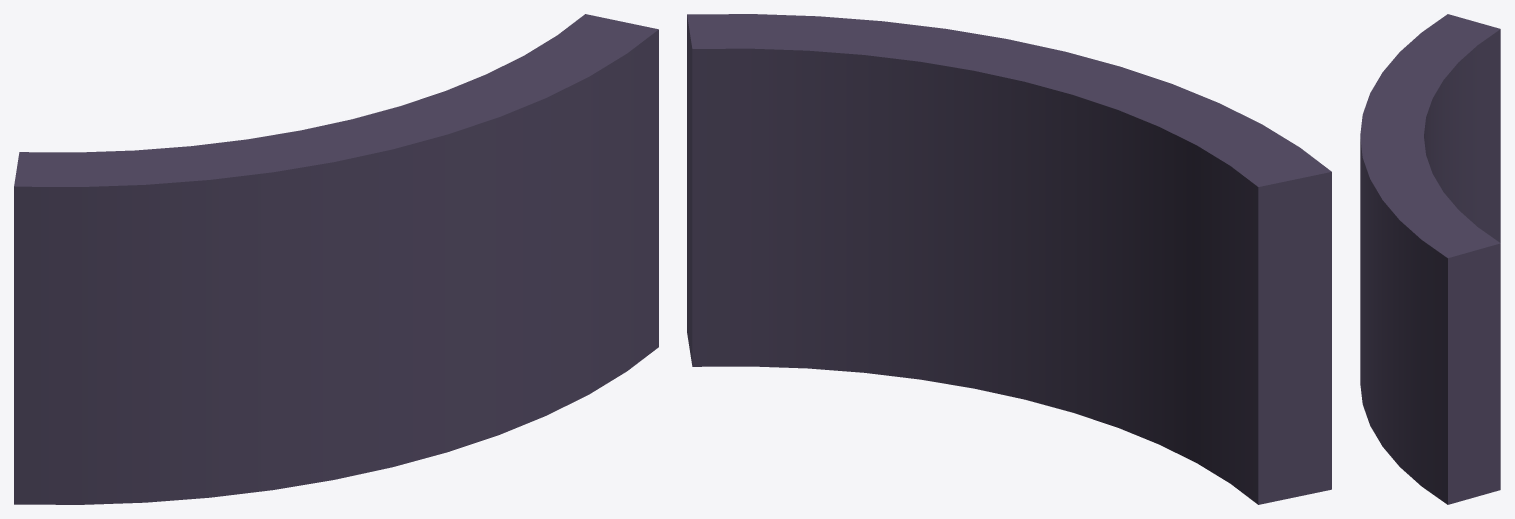
The model's file is Inner_03.fbx.
The picture shows the model from 3 angles, left to right: view 1: azimuth 30°, elevation 25°; view 2: azimuth 150°, elevation 25°; view 3: azimuth 270°, elevation 25°; orthographic projection. The views are drawn at different scales.
Visible parts, largest first — view 1: Inner_03; view 2: Inner_03; view 3: Inner_03.
Part boxes in pixels (x1,y1,x2,y2): Inner_03: (14,14,658,504); Inner_03: (687,14,1331,504); Inner_03: (1360,14,1500,504).
Bounding box in the file's own units: 73.75 × 34.73 × 17.94.
